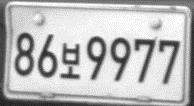6: (36, 33, 57, 78)
7: (133, 38, 156, 83), (158, 39, 180, 85)
8: (14, 31, 35, 77)
9: (85, 35, 108, 81), (110, 37, 132, 81)
보: (59, 41, 81, 80)
